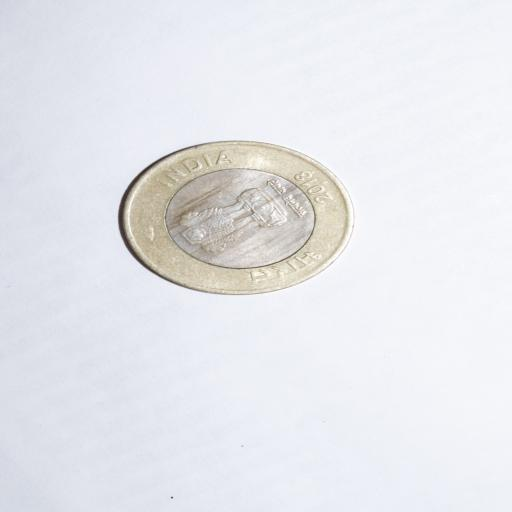rupee10: (120, 140, 353, 293)
